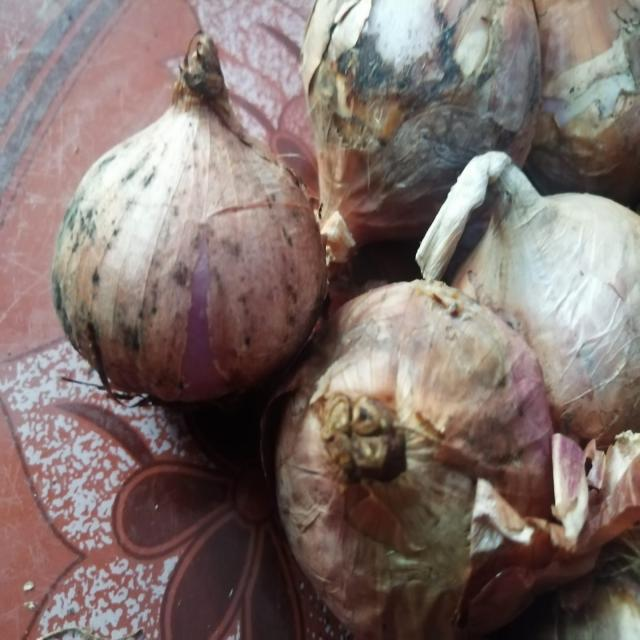rotten: (50, 196, 128, 374), (334, 38, 452, 127)
